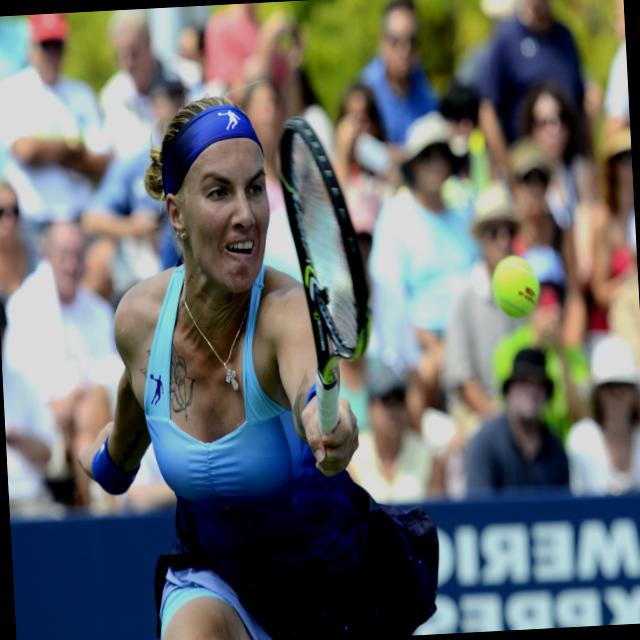Tennis Ball: (492, 254, 542, 320)
